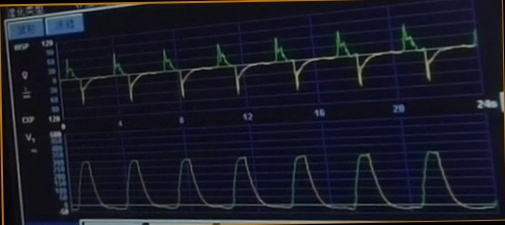Accumulation Flow: (61, 28, 475, 105)
Volume: (72, 148, 490, 215)
